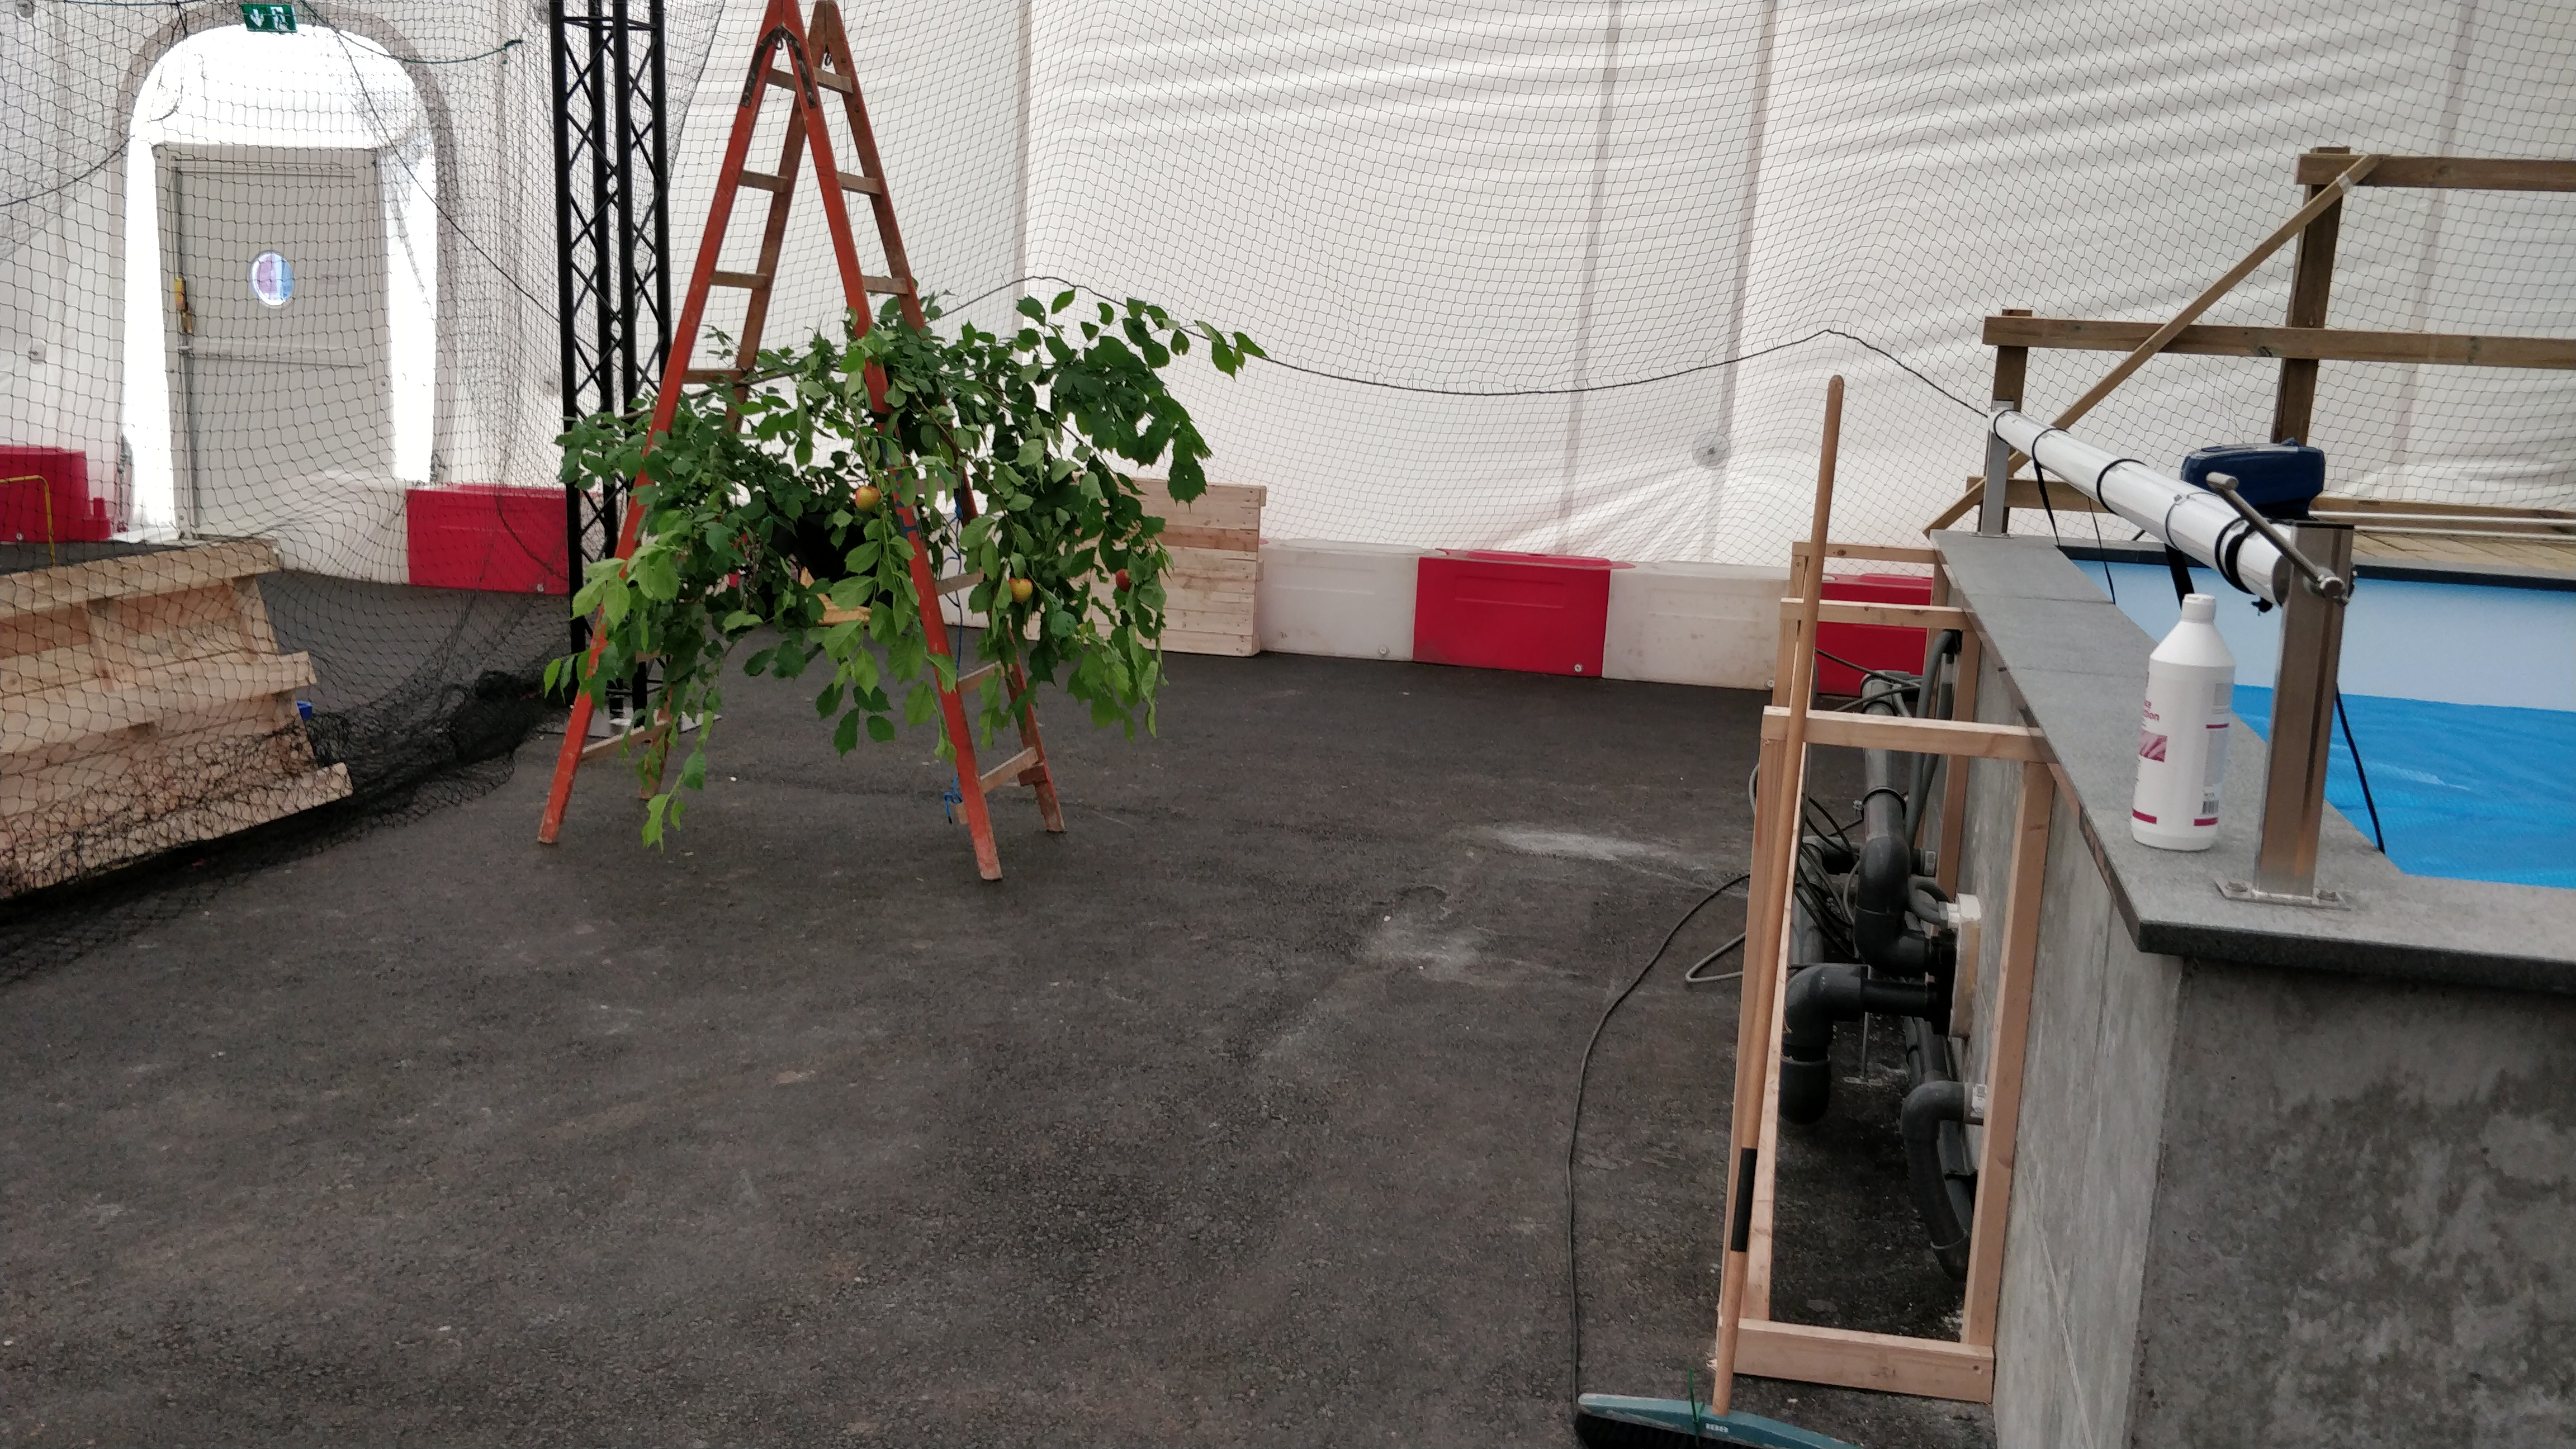apple: (855, 487, 881, 511), (1007, 577, 1031, 603), (1116, 568, 1132, 593)
